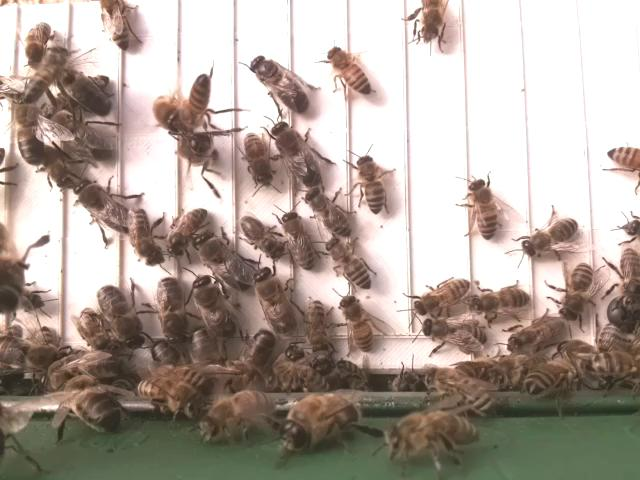Drone: (246, 51, 314, 116), (268, 119, 326, 191), (192, 228, 253, 294), (70, 175, 134, 235), (251, 266, 302, 337), (96, 282, 145, 351), (190, 273, 238, 343), (11, 86, 50, 169), (154, 273, 191, 347)
Worker: (278, 209, 322, 273), (323, 46, 375, 100), (505, 313, 568, 357), (325, 237, 375, 291), (303, 185, 352, 240), (555, 259, 596, 324), (126, 204, 166, 270), (236, 211, 285, 263), (410, 277, 472, 318), (518, 217, 579, 258), (418, 316, 491, 350), (162, 206, 208, 259), (466, 174, 499, 243), (340, 293, 376, 356), (471, 283, 534, 319), (354, 152, 389, 216), (304, 296, 334, 361), (97, 0, 132, 55), (242, 130, 275, 186), (618, 243, 640, 304)
